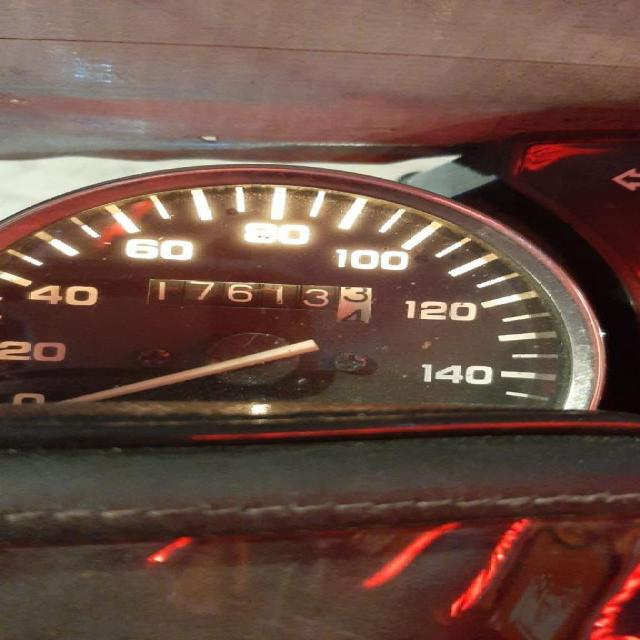odometer: (144, 278, 372, 324)
